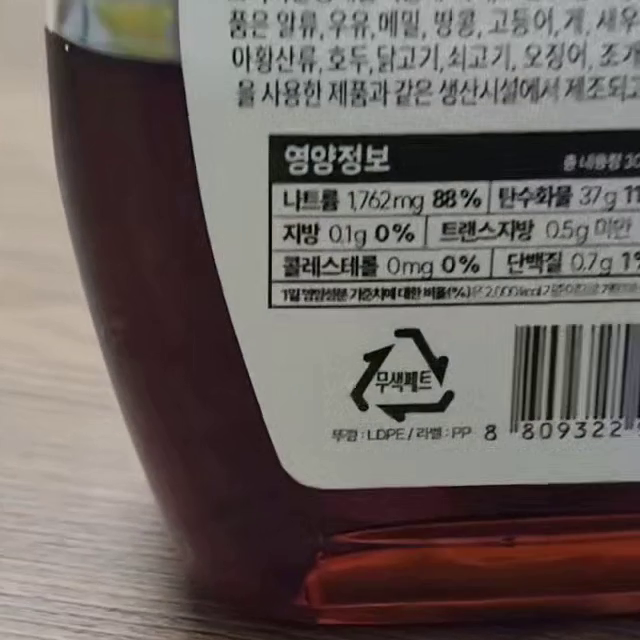ColorlessPet: (347, 327, 455, 422)
